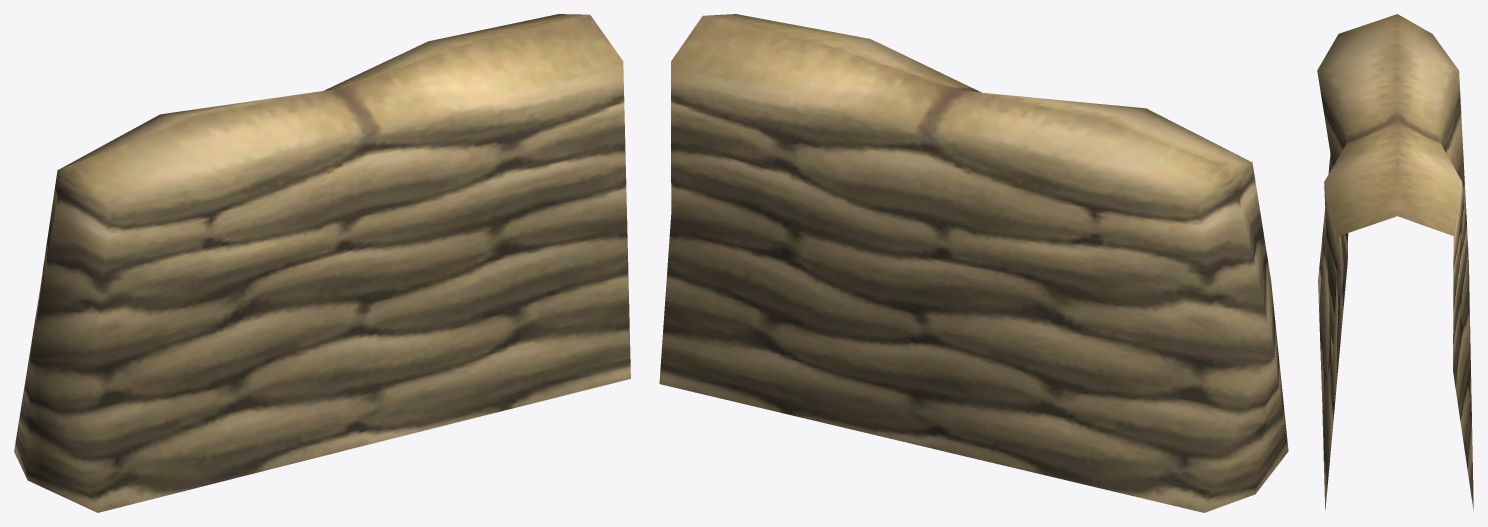
The model's file is SandBags2_High_End1.glb.
3 views of the same model, side by side, from view 1: azimuth 30°, elevation 25°; view 2: azimuth 150°, elevation 25°; view 3: azimuth 270°, elevation 25° (orthographic). The views are drawn at different scales.
Visible parts, largest first — view 1: SANDBAGS2_HIGH_END1; view 2: SANDBAGS2_HIGH_END1; view 3: SANDBAGS2_HIGH_END1.
Boxes of the visible parts, <box> form: SANDBAGS2_HIGH_END1: <box>14,14,630,512</box>; SANDBAGS2_HIGH_END1: <box>659,14,1288,512</box>; SANDBAGS2_HIGH_END1: <box>1317,14,1473,510</box>.
Bounding box in the file's own units: 1.99 × 1.14 × 0.542.
Materials: 1 (1 with a texture image).
